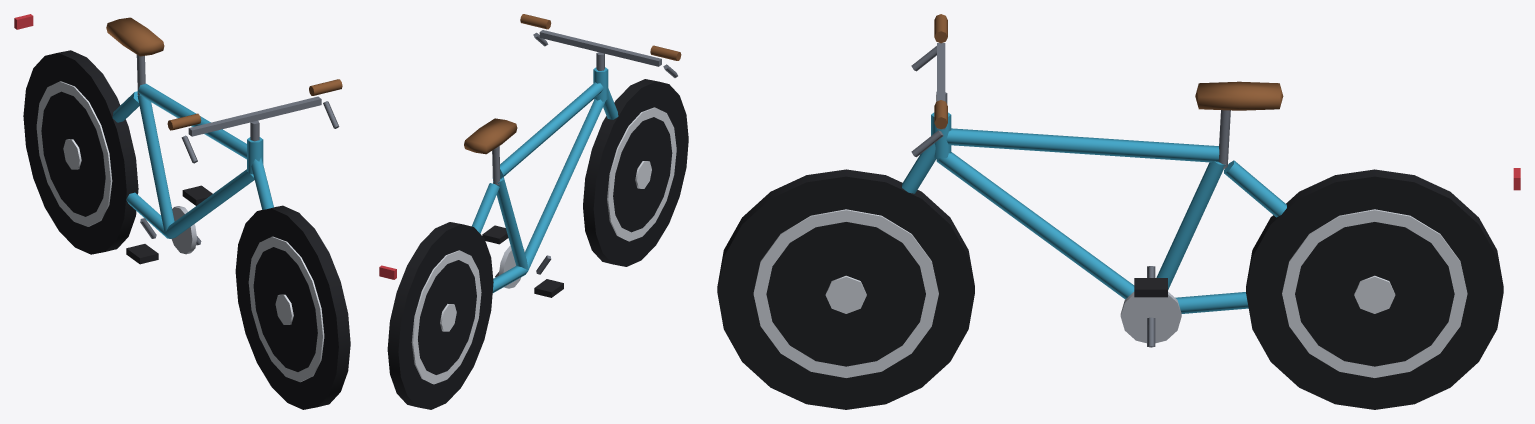
The model's file is bicycle_big.glb.
3 renders of one model, left to right at view 1: azimuth 30°, elevation 25°; view 2: azimuth 150°, elevation 25°; view 3: azimuth 270°, elevation 25°, orthographic. The views are drawn at different scales.
Parts seen in each view (by area): view 1: root; view 2: root; view 3: root.
Part boxes in pixels (x1=…): root: x1=14, y1=14, x2=350, y2=409; root: x1=379, y1=14, x2=688, y2=409; root: x1=717, y1=14, x2=1520, y2=409.
Bounding box in the file's own units: 0.72 × 1.11 × 2.37.
